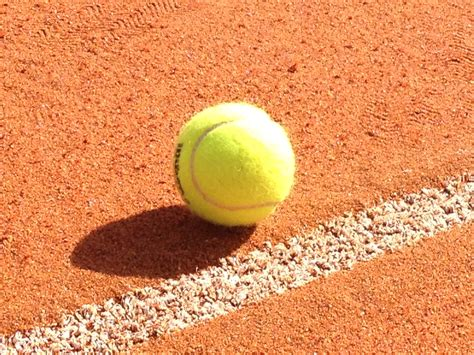tennis_ball: (173, 102, 296, 228)
